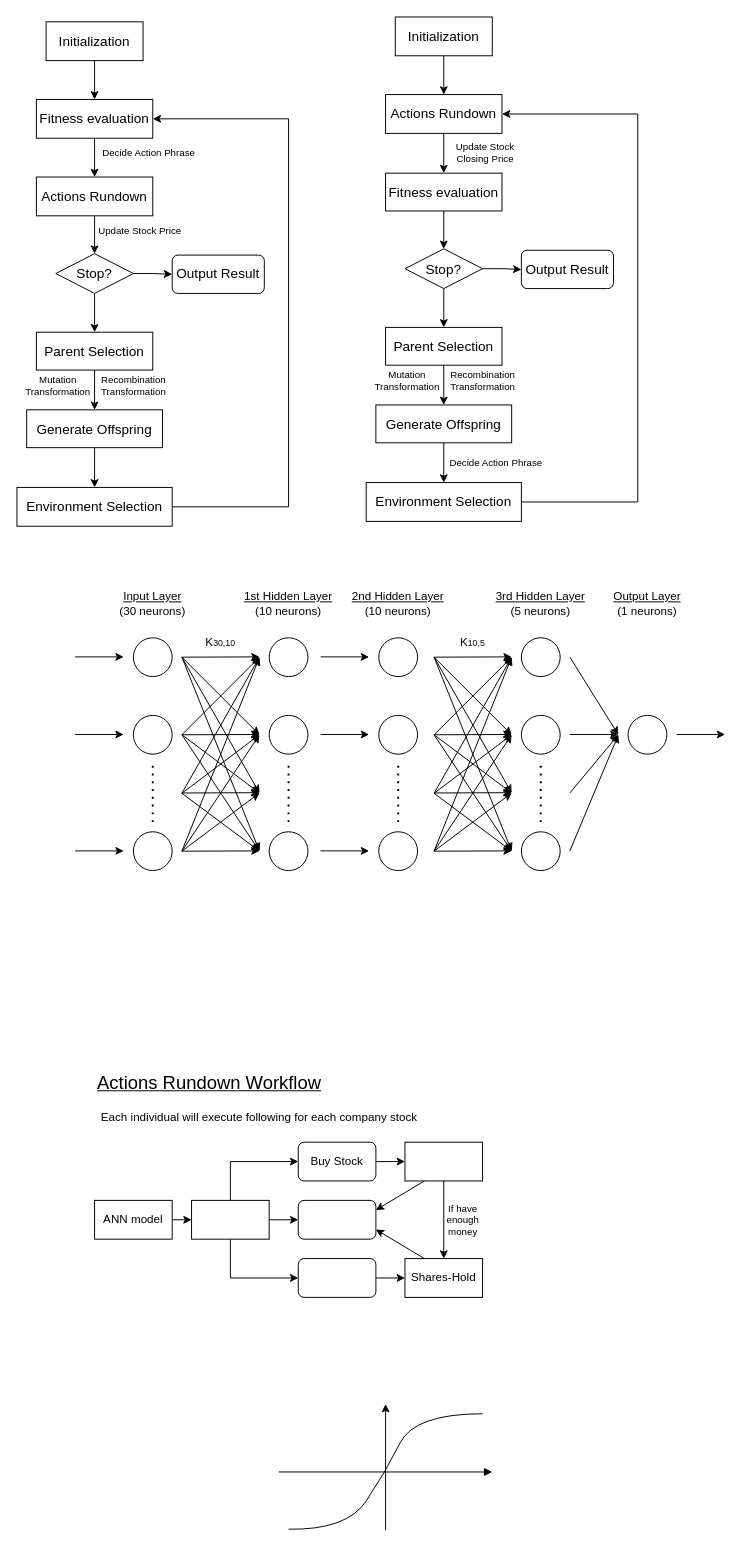
Image size: 750x1555. Some labels were removed from this diagram. Here are the shapes that lost their labels. From the top down, the centre of each, then its label:
At point (443, 1161): "$ Wallet".
At point (230, 1219): "Emotional Resiliency".
At point (336, 1219): "Next Stock/Halt".
At point (336, 1277): "Sell Stock".
